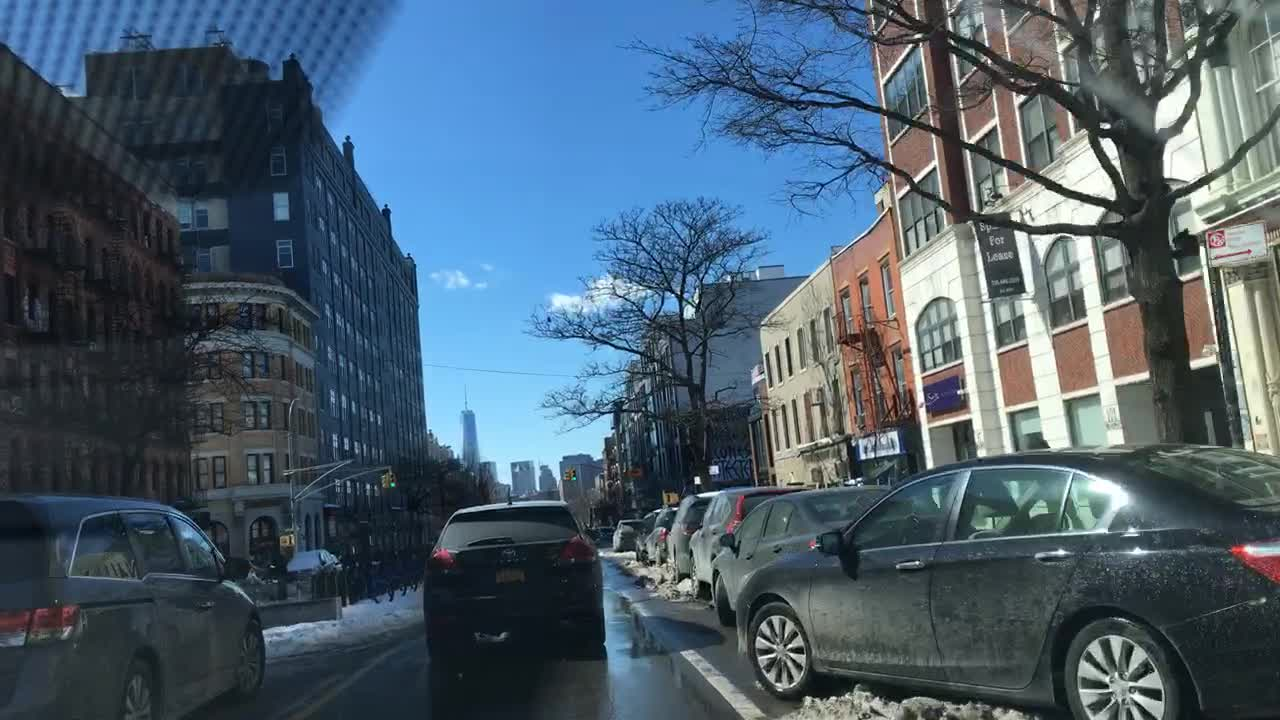car: (738, 438, 1278, 718), (0, 493, 265, 718), (421, 486, 605, 652), (710, 485, 896, 627), (687, 486, 809, 600), (664, 491, 721, 580), (645, 505, 679, 563), (635, 507, 662, 562), (287, 550, 339, 573), (613, 518, 642, 552), (593, 525, 616, 546)
traffic light: (277, 534, 295, 547), (664, 492, 680, 504), (388, 471, 399, 488), (380, 472, 388, 489), (563, 467, 569, 483), (570, 467, 577, 480)
traffic sign: (1205, 219, 1269, 267), (707, 464, 719, 474), (692, 474, 702, 483)
